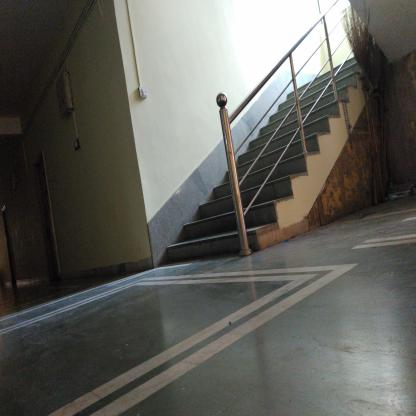stairs: (205, 189, 231, 265)
